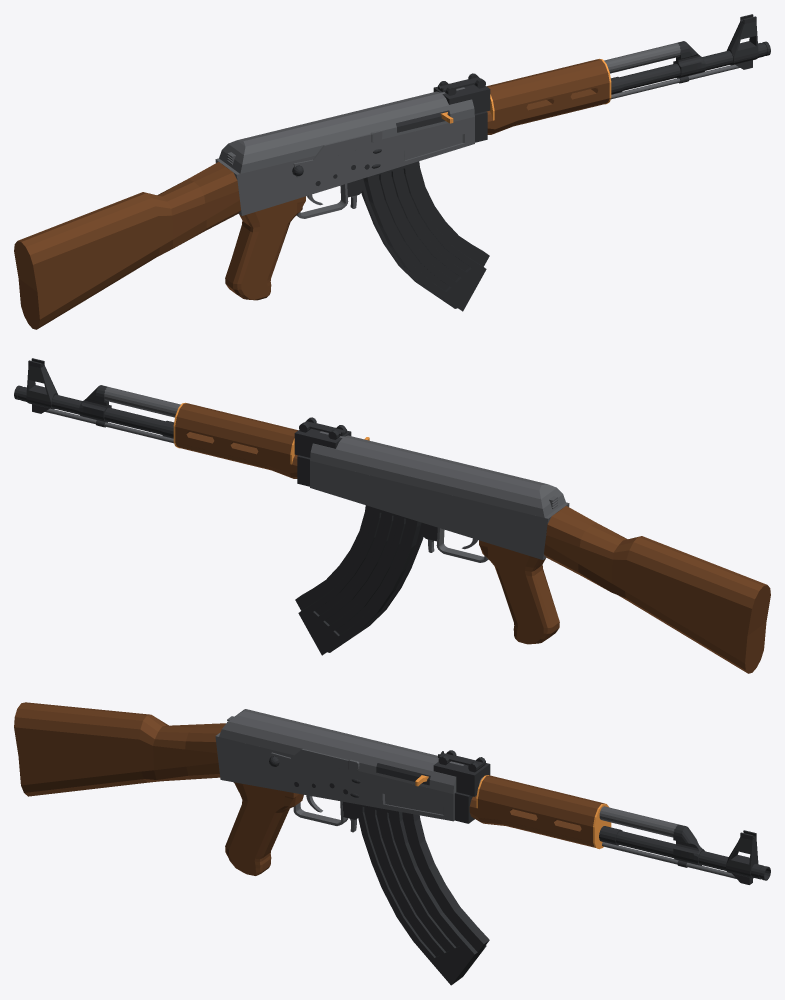
The picture shows the model from 3 angles, top to bottom: view 1: azimuth 30°, elevation 25°; view 2: azimuth 150°, elevation 25°; view 3: azimuth 330°, elevation 25°; orthographic projection.
Parts seen in each view (by area): view 1: Stock, Magazine, Receiver, DustCover, HandguardLower, PistolGrip, Barrel, SelectorLever, GasTube, FrontSightBase, RearSightBase, GasBlock (+1 smaller); view 2: Stock, Magazine, Receiver, DustCover, HandguardLower, PistolGrip, Barrel, GasTube, FrontSightBase, RearSightBase, GasBlock, CleaningRod; view 3: Stock, Magazine, Receiver, DustCover, HandguardLower, PistolGrip, Barrel, GasTube, SelectorLever, RearSightBase, GasBlock, FrontSightBase (+4 smaller).
Part boxes in pixels (box(x1,y1,x2,y2)): Stock: box(14, 162, 240, 329); Magazine: box(361, 161, 489, 311); Receiver: box(215, 117, 474, 215); DustCover: box(219, 87, 474, 173); HandguardLower: box(486, 59, 609, 134); PistolGrip: box(225, 196, 305, 300); Barrel: box(620, 41, 770, 90); SelectorLever: box(293, 130, 382, 177); GasTube: box(604, 43, 680, 73); FrontSightBase: box(727, 21, 758, 61); RearSightBase: box(433, 79, 490, 113); GasBlock: box(673, 41, 705, 78); Stock: box(544, 506, 770, 673); Magazine: box(295, 505, 423, 655); Receiver: box(310, 461, 569, 559); DustCover: box(310, 431, 565, 517); HandguardLower: box(175, 403, 298, 478); PistolGrip: box(479, 540, 559, 644); Barrel: box(14, 385, 164, 434); GasTube: box(104, 387, 180, 417); FrontSightBase: box(26, 365, 57, 405); RearSightBase: box(294, 423, 351, 457); GasBlock: box(79, 385, 111, 422); CleaningRod: box(45, 408, 173, 443); Stock: box(14, 702, 225, 796); Magazine: box(355, 804, 489, 985); Receiver: box(215, 732, 454, 821); DustCover: box(219, 709, 464, 798); HandguardLower: box(469, 775, 604, 847); PistolGrip: box(225, 782, 303, 875); Barrel: box(616, 831, 770, 880); GasTube: box(599, 806, 678, 837); SelectorLever: box(271, 749, 359, 771); RearSightBase: box(433, 755, 490, 796); GasBlock: box(673, 824, 704, 865); FrontSightBase: box(726, 837, 758, 874).
Bounding box in the file's own units: 0.9077 × 0.2623 × 0.0598.
